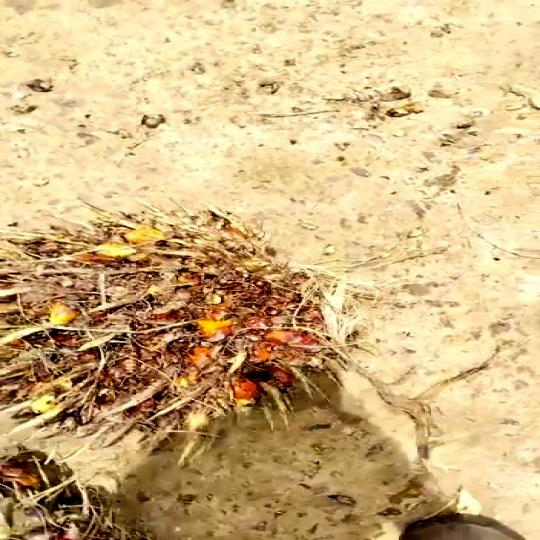terlalu masak: (0, 184, 370, 470)
